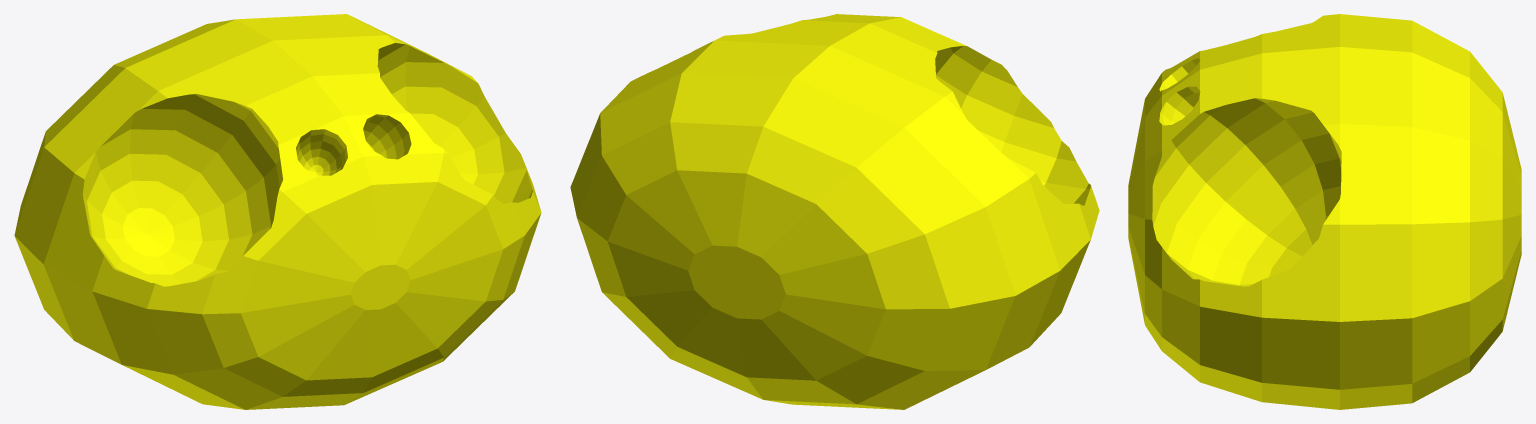
File: head.glb
The picture shows the model from 3 angles, left to right: view 1: azimuth 30°, elevation 25°; view 2: azimuth 150°, elevation 25°; view 3: azimuth 270°, elevation 25°; orthographic projection. The views are drawn at different scales.
Parts seen in each view (by area): view 1: head_00; view 2: head_00; view 3: head_00.
Part boxes in pixels (x1,y1,x2,y2): head_00: (14, 14, 541, 409); head_00: (570, 14, 1099, 409); head_00: (1128, 14, 1521, 409).
Size of the model in its own units: 2.19 by 1.53 by 1.66.
Materials: 1 (1 with a texture image).
